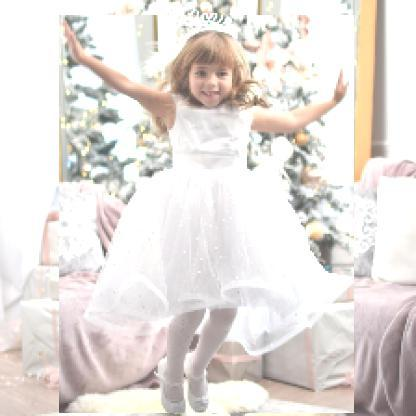child: (60, 16, 356, 415)
